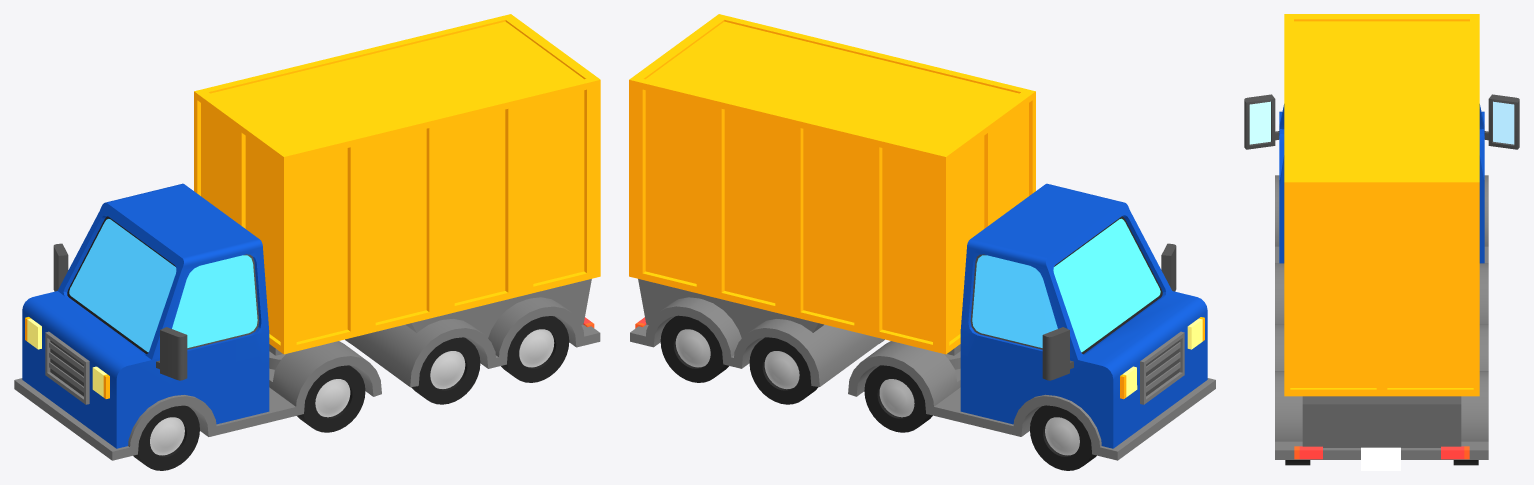
File: articulated_lorry.glb
3 renders of one model, left to right at view 1: azimuth 30°, elevation 25°; view 2: azimuth 150°, elevation 25°; view 3: azimuth 270°, elevation 25°, orthographic. The views are drawn at different scales.
Visible parts, largest first — view 1: Cube.709; view 2: Cube.709; view 3: Cube.709.
Part boxes in pixels (bbox=[...]): Cube.709: bbox=[14, 14, 600, 470]; Cube.709: bbox=[629, 14, 1215, 470]; Cube.709: bbox=[1244, 14, 1519, 470].
Bounding box in the file's own units: 2.3 × 1.28 × 1.02.
1 material, 1 textured.
